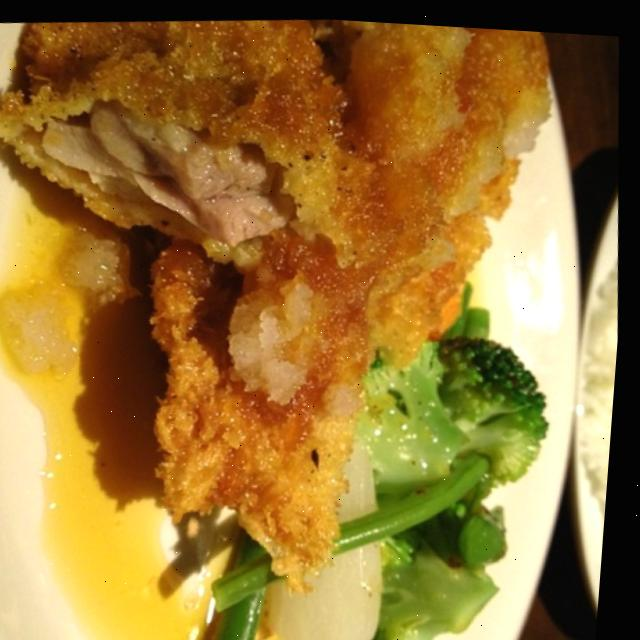鸡肉料理 含炸鸡: (0, 0, 598, 618)
